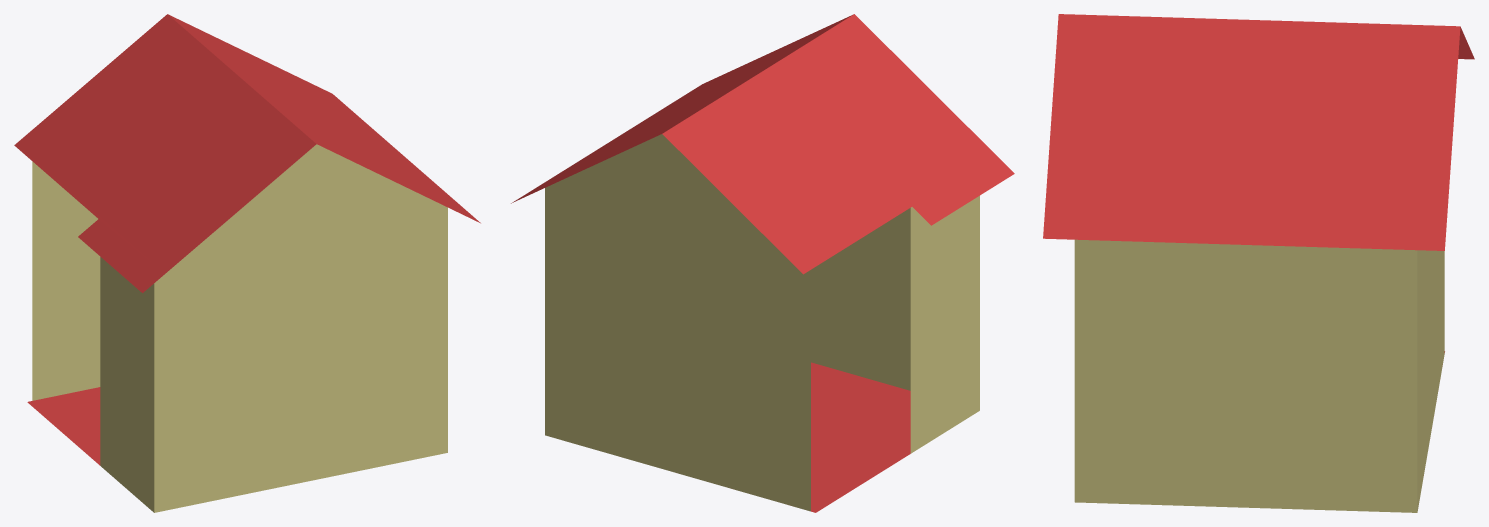
3 views of the same model, side by side, from view 1: azimuth 30°, elevation 25°; view 2: azimuth 150°, elevation 25°; view 3: azimuth 270°, elevation 25° (orthographic). The views are drawn at different scales.
Visible parts, largest first — view 1: group_5, group_3, group_6, group_4; view 2: group_5, group_3, group_6, group_4; view 3: group_5, group_3.
Part boxes in pixels (left/top/right/bottom): group_5: left=32, top=144, right=447, bottom=512; group_3: left=14, top=14, right=480, bottom=292; group_6: left=27, top=387, right=100, bottom=465; group_4: left=20, top=14, right=311, bottom=282; group_5: left=545, top=134, right=979, bottom=511; group_3: left=511, top=14, right=1014, bottom=274; group_6: left=811, top=362, right=910, bottom=512; group_4: left=664, top=18, right=1012, bottom=267; group_5: left=1074, top=239, right=1444, bottom=512; group_3: left=1043, top=14, right=1474, bottom=250.
Size of the model in its own units: 11.94 by 10.93 by 11.42.
